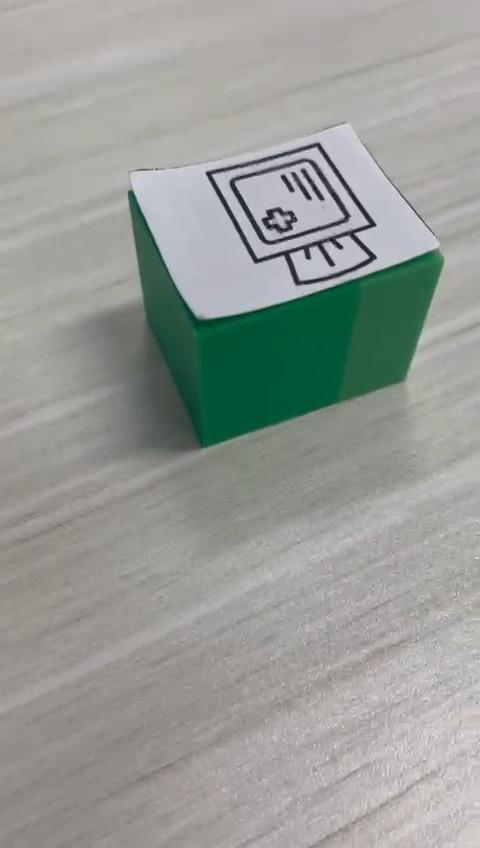Gauze: (125, 119, 444, 448)
